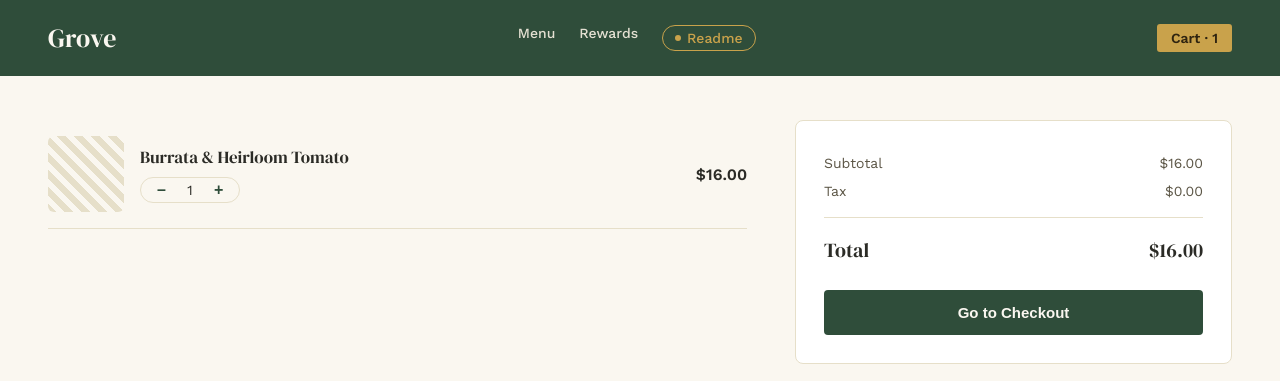
Test: CartView › updates quantity and total when the stepper is used, and removes the line at 0
This screenshot has width=1280, height=381.
What coordinates should you click on to do the following:
click the button named "Increase quantity"
I would click on:
 (219, 190)
Its box is x1=210 y1=182 x2=227 y2=198.
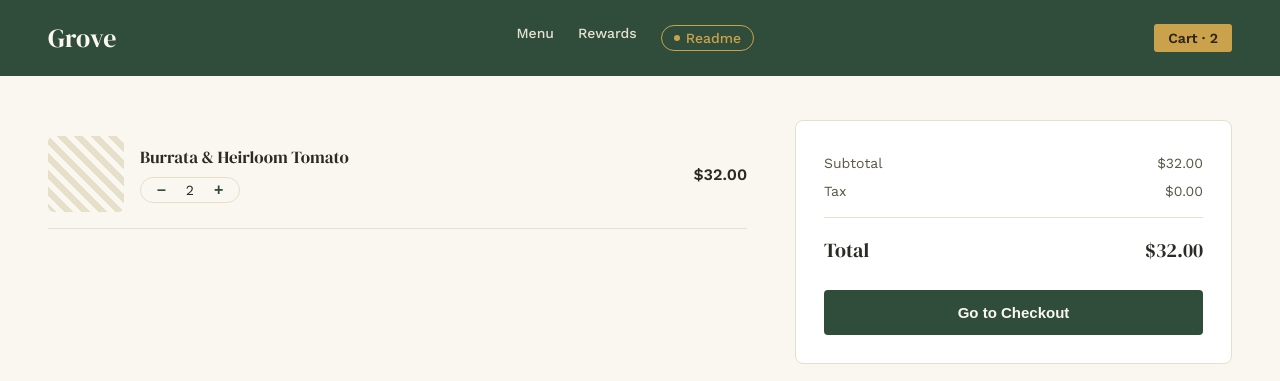
Expected: the text "$32.00" is shown, x1=693 y1=164 x2=747 y2=184
What coordinates should you click on to do the following:
click the button named "Decrease quantity"
I would click on:
 (161, 190)
Its box is x1=153 y1=182 x2=170 y2=198.
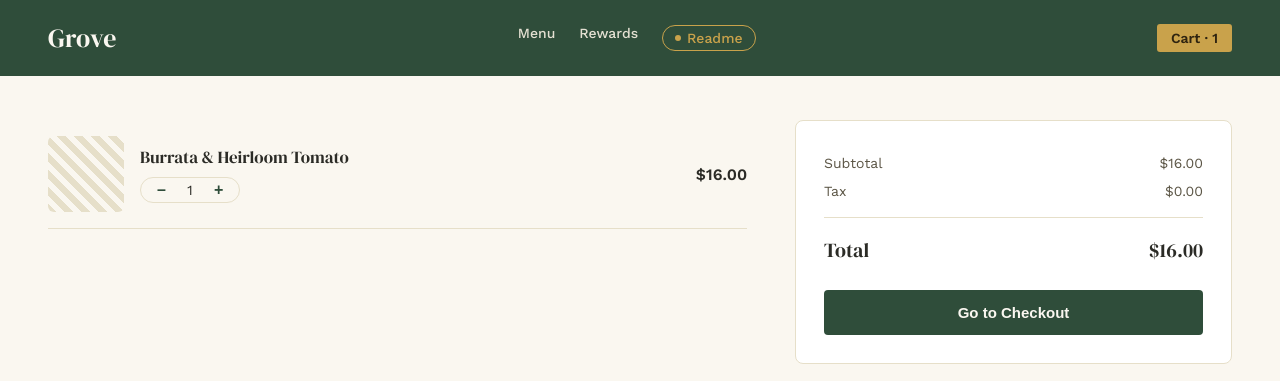
What coordinates should you click on to do the following:
click the button named "Decrease quantity"
I would click on:
 (161, 190)
Its box is x1=153 y1=182 x2=170 y2=198.
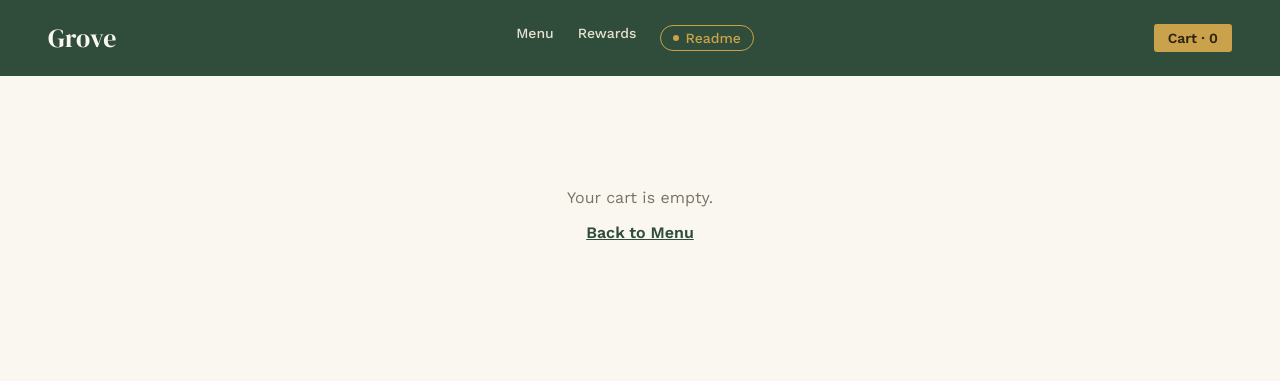
Expected: the text "Your cart is empty" is shown, x1=567 y1=188 x2=713 y2=207
